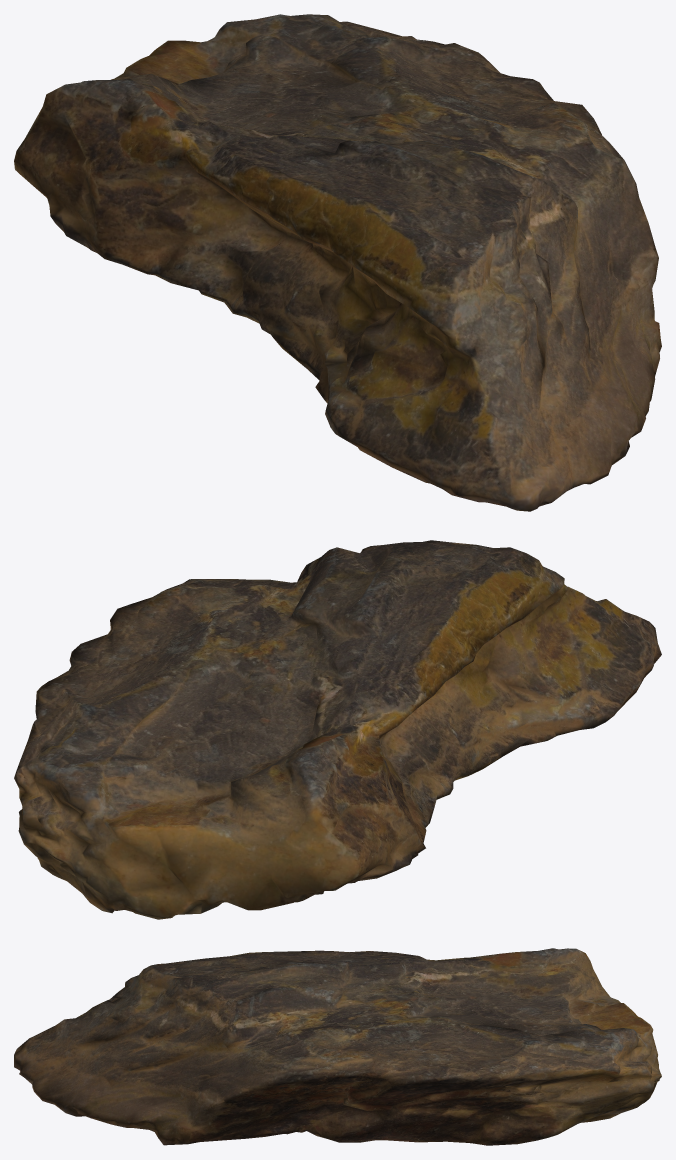
Rendered from rock-boulder.glb.
3 views of the same model, one above another, from view 1: azimuth 30°, elevation 25°; view 2: azimuth 150°, elevation 25°; view 3: azimuth 270°, elevation 25° (orthographic). The views are drawn at different scales.
Parts seen in each view (by area): view 1: rock_09_LOD0; view 2: rock_09_LOD0; view 3: rock_09_LOD0.
Boxes of the visible parts, left/top/right/bottom form: rock_09_LOD0: left=14, top=14, right=661, bottom=511; rock_09_LOD0: left=14, top=540, right=661, bottom=919; rock_09_LOD0: left=14, top=948, right=661, bottom=1145.
Size of the model in its own units: 0.074 by 0.0328 by 0.1446.
1 material, 1 textured.
